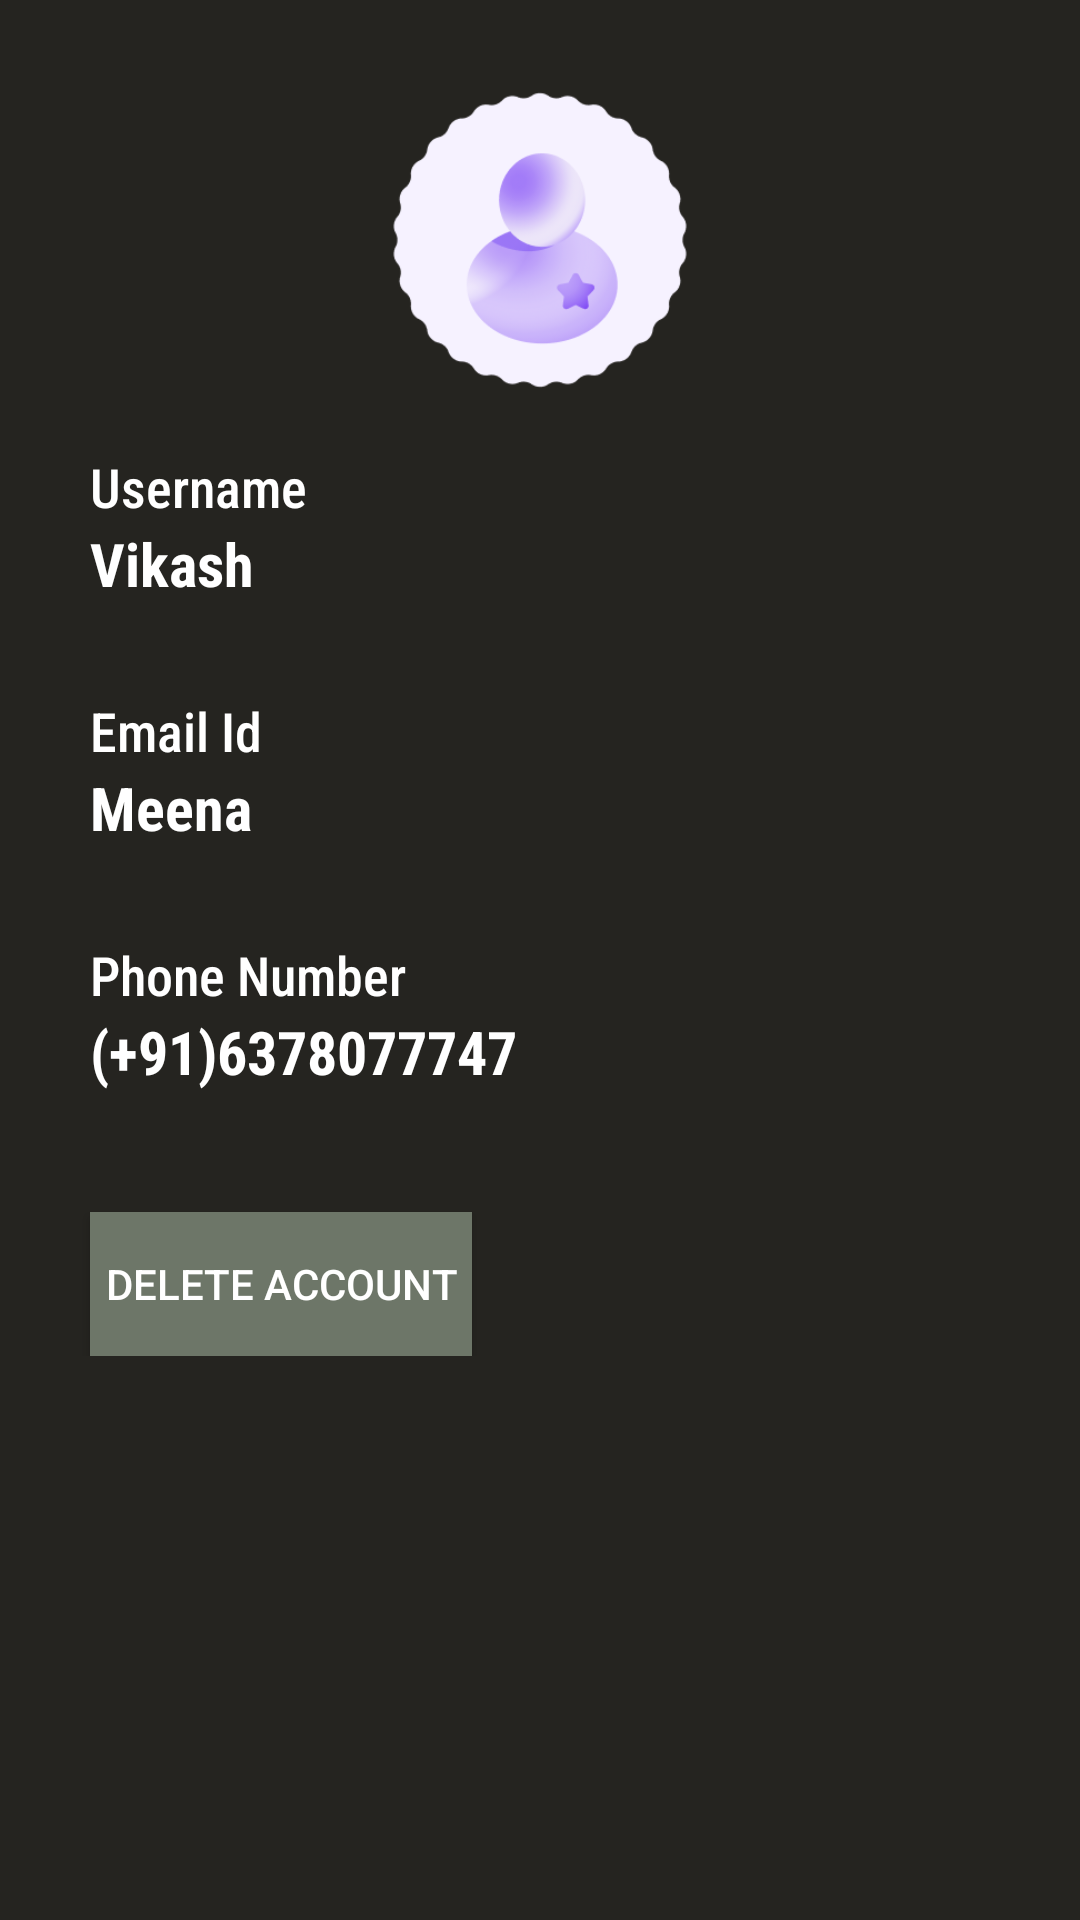

Locate icon controls on the screen. Image size 1080w x 1920h, boxes as (x1, y1, x2, y2).
client profile: (393, 93, 687, 387)
